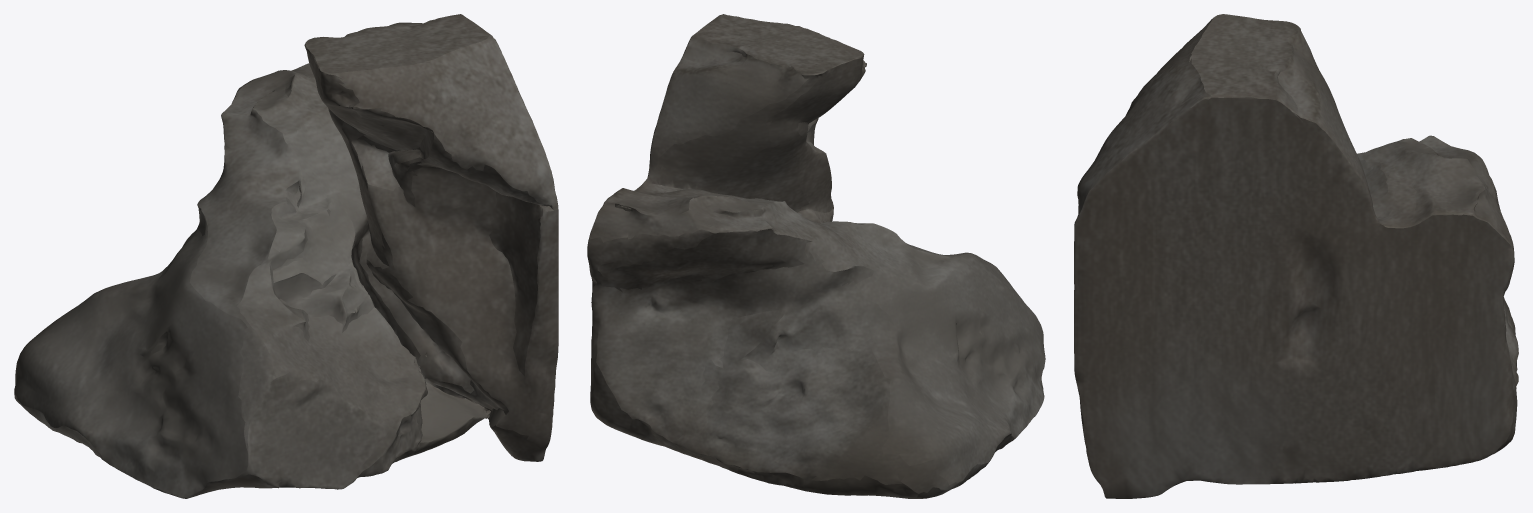
3 renders of one model, left to right at view 1: azimuth 30°, elevation 25°; view 2: azimuth 150°, elevation 25°; view 3: azimuth 270°, elevation 25°, orthographic. The views are drawn at different scales.
Visible parts, largest first — view 1: world; view 2: world; view 3: world.
Boxes of the visible parts, <box> form: world: <box>14,14,558,498</box>; world: <box>587,14,1045,498</box>; world: <box>1074,14,1518,498</box>.
Bounding box in the file's own units: 0.8 × 0.8019 × 0.803.
1 material, 1 textured.
